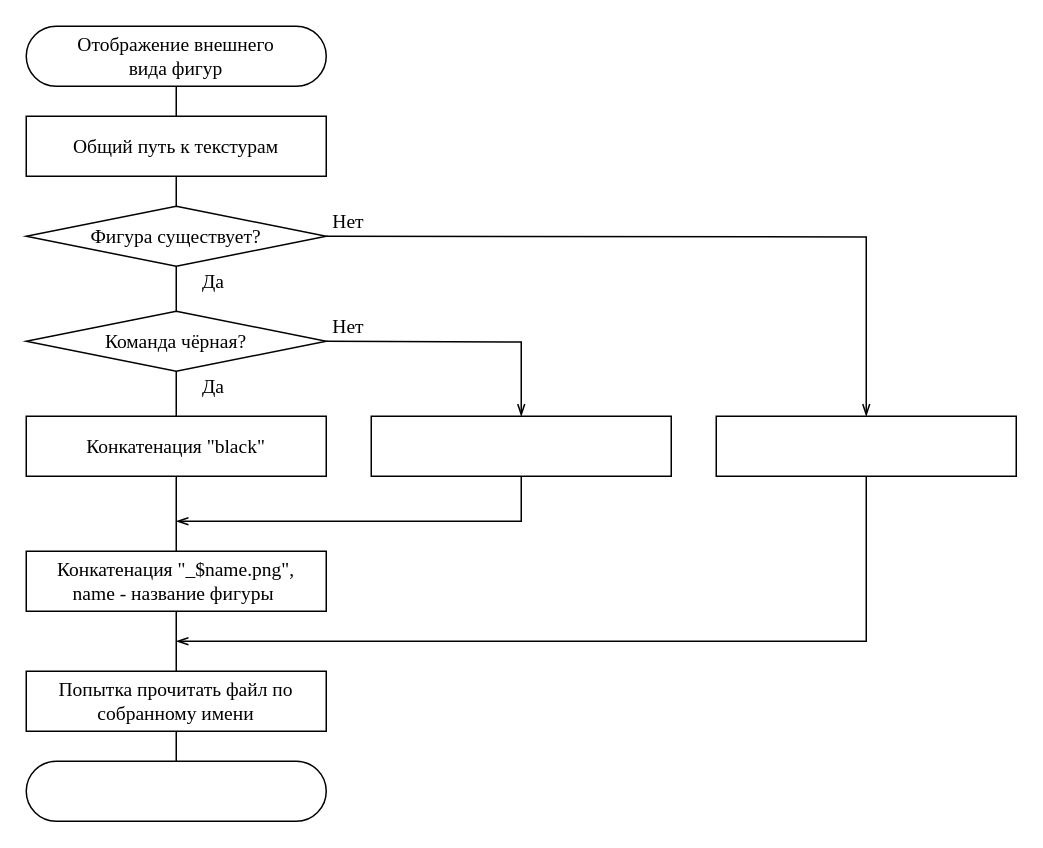
The diagram is 1043 pixels wide and 848 high, and some of its shapes have lost their labels. The centre of each missing label's shape, as x and y in pixels:
Конец: pixel 175 790
Конкатенация "transparent.png": pixel 865 445
Конкатенация "white": pixel 520 445
